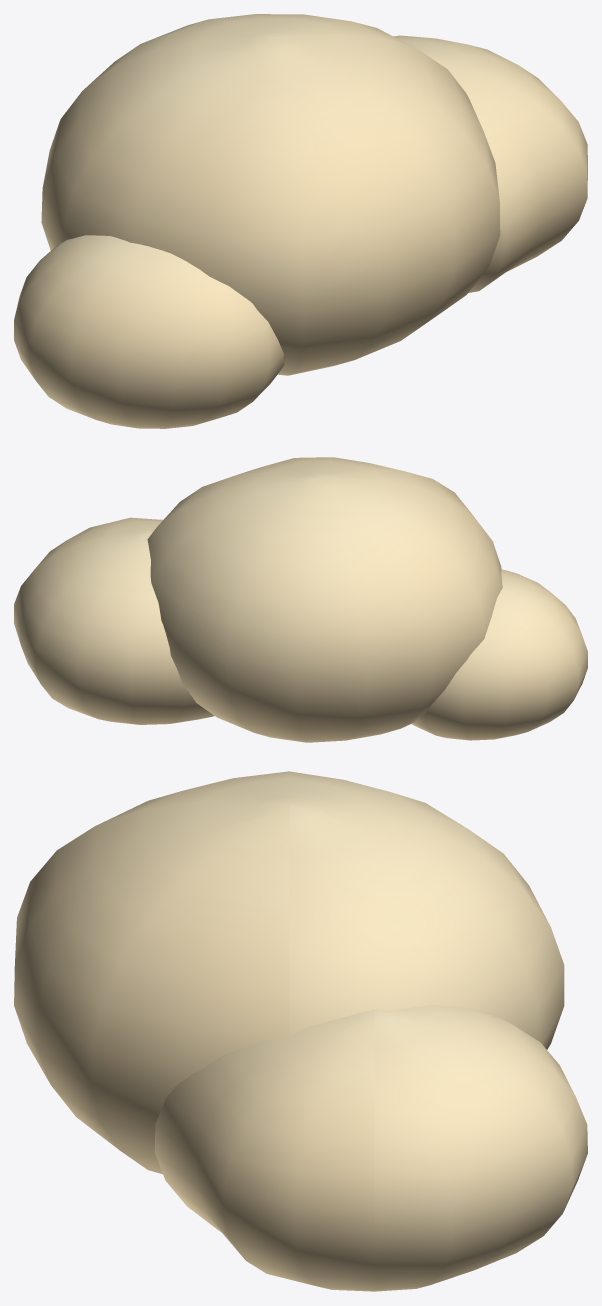
File: SD_FX01_FootstepDust.fbx
The picture shows the model from 3 angles, top to bottom: view 1: azimuth 30°, elevation 25°; view 2: azimuth 150°, elevation 25°; view 3: azimuth 270°, elevation 25°; orthographic projection. The views are drawn at different scales.
Visible parts, largest first — view 1: Puff_01, Puff_03, Puff_02; view 2: Puff_01, Puff_02, Puff_03; view 3: Puff_01, Puff_02.
Boxes of the visible parts, bbox=[...] form: Puff_01: bbox=[41, 14, 500, 375]; Puff_03: bbox=[14, 235, 284, 428]; Puff_02: bbox=[393, 35, 587, 292]; Puff_01: bbox=[147, 457, 502, 742]; Puff_02: bbox=[14, 517, 214, 724]; Puff_03: bbox=[411, 569, 587, 740]; Puff_01: bbox=[14, 771, 564, 1174]; Puff_02: bbox=[155, 1005, 587, 1291].
Bounding box in the file's own units: 0.5826 × 0.28 × 0.4039.
